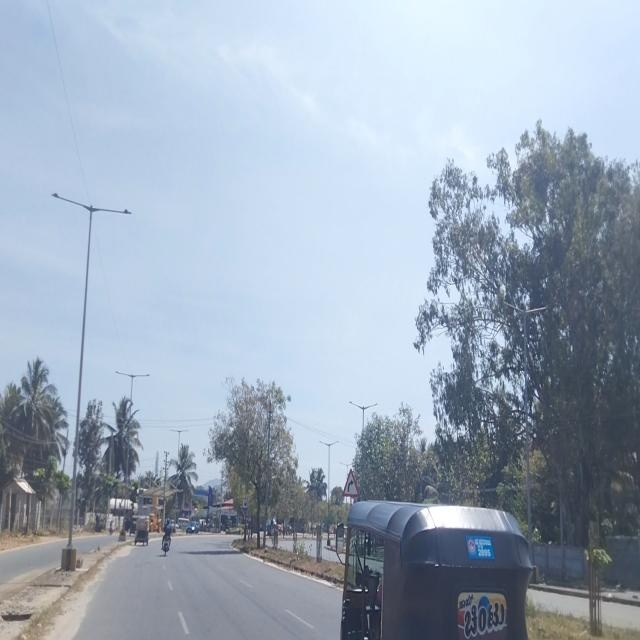bien_nguy_hiem: (343, 467, 359, 497)
